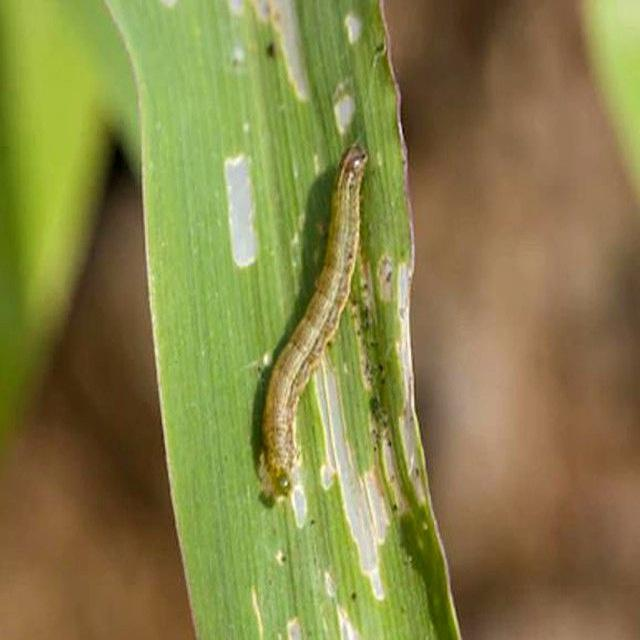gusano_cogollero: (262, 143, 370, 495)
